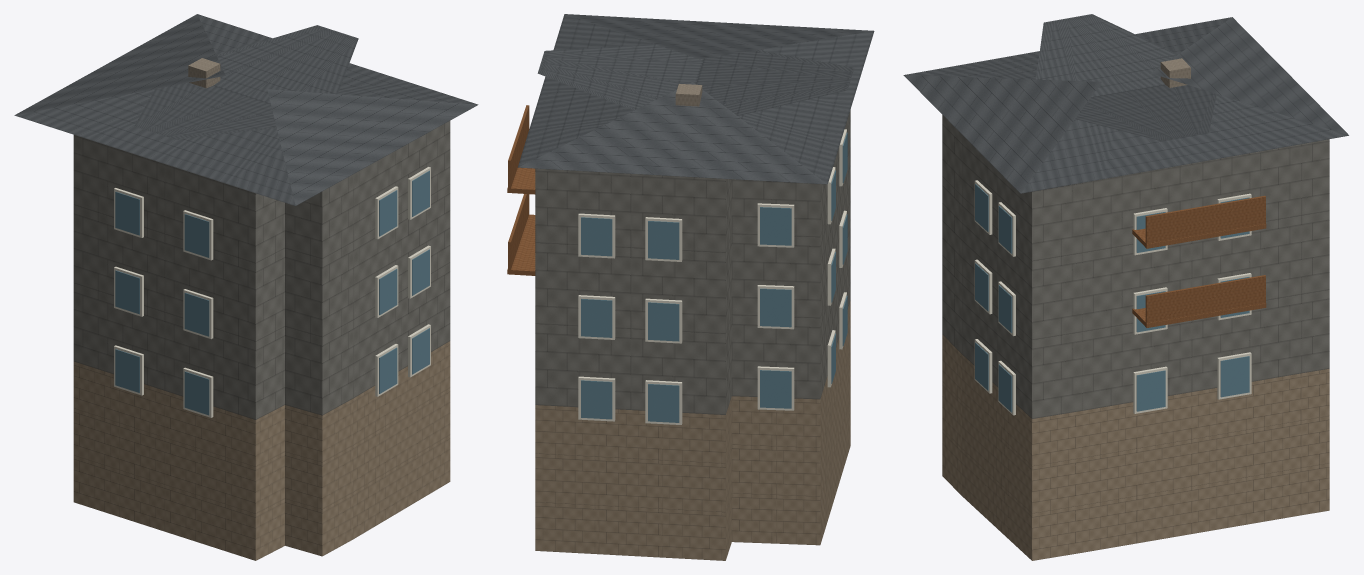
The model's file is core_0091.gltf.
3 views of the same model, side by side, from view 1: azimuth 30°, elevation 25°; view 2: azimuth 150°, elevation 25°; view 3: azimuth 270°, elevation 25° (orthographic). The views are drawn at different scales.
Parts seen in each view (by area): view 1: core_0091; view 2: core_0091; view 3: core_0091.
Boxes of the visible parts, bbox=[...] form: core_0091: bbox=[14, 14, 478, 560]; core_0091: bbox=[507, 14, 874, 560]; core_0091: bbox=[903, 14, 1348, 560].
Bounding box in the file's own units: 13.61 × 14.75 × 14.53.
7 materials, 7 textured.
